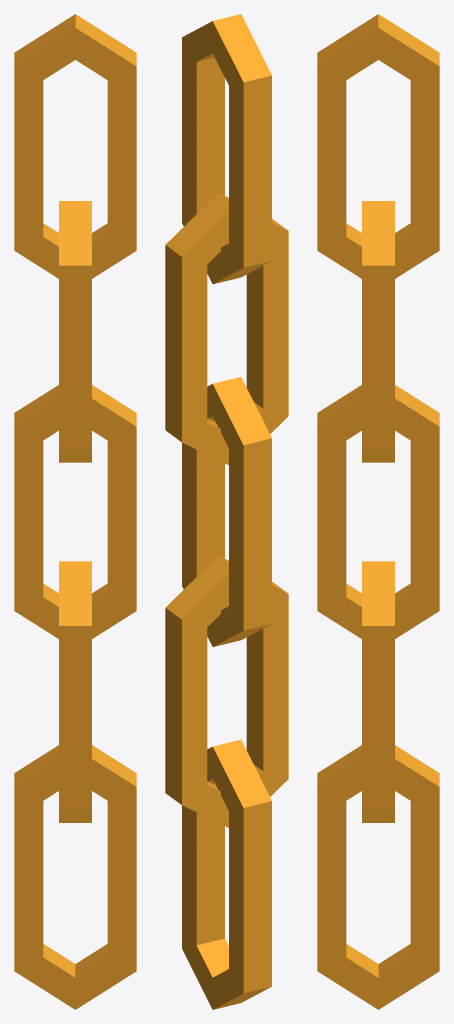
File: SM_Kitchen_Chain_Fantasy.fbx
3 views of the same model, side by side, from view 1: azimuth 90°, elevation 25°; view 2: azimuth 210°, elevation 25°; view 3: azimuth 270°, elevation 25° (orthographic).
Visible parts, largest first — view 1: kitchen-chain-fantasy; view 2: kitchen-chain-fantasy; view 3: kitchen-chain-fantasy.
Boxes of the visible parts, left/top/right/bottom form: kitchen-chain-fantasy: left=14, top=14, right=136, bottom=1009; kitchen-chain-fantasy: left=165, top=14, right=288, bottom=1009; kitchen-chain-fantasy: left=317, top=14, right=439, bottom=1009.
Bounding box in the file's own units: 0.0372 × 0.3291 × 0.0372.
